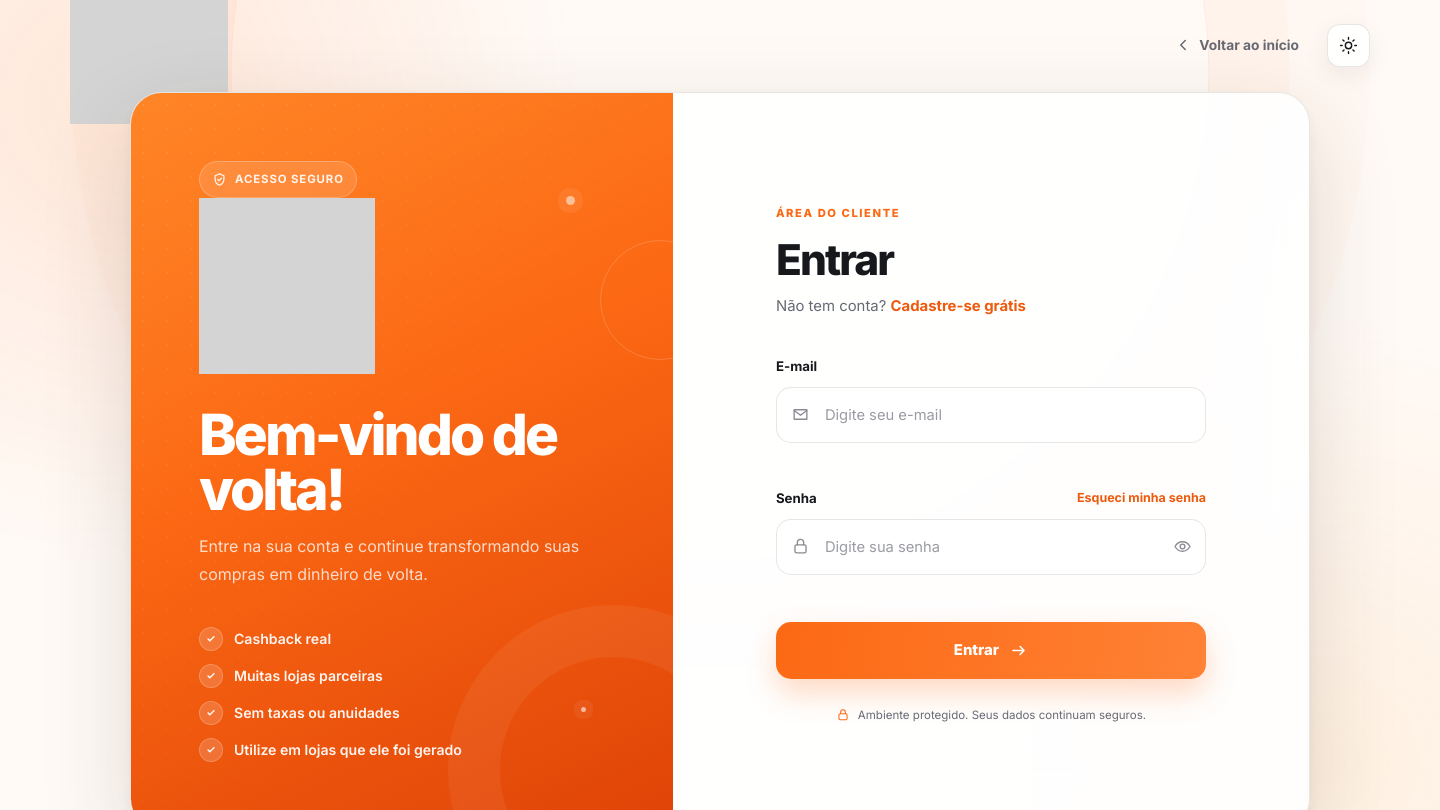
experiência de login › alterna e persiste o tema da mesma forma que a homepage
The width and height of the screenshot is (1440, 810).
Click the button named "Ativar modo noturno". click: (1348, 45)
box: [1327,24,1370,66]
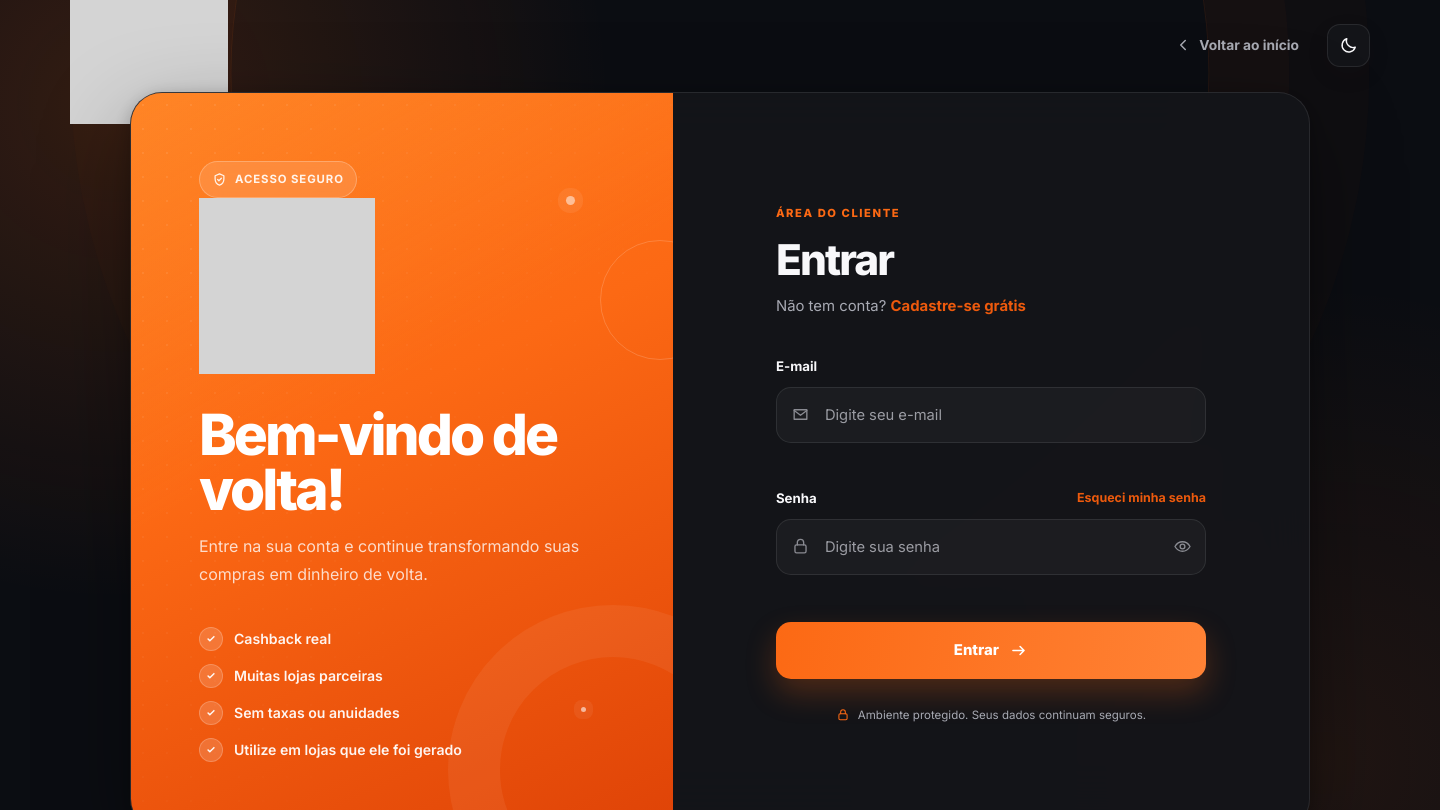
Now the button named "Ativar modo claro" is shown, box [1327,24,1370,66]
